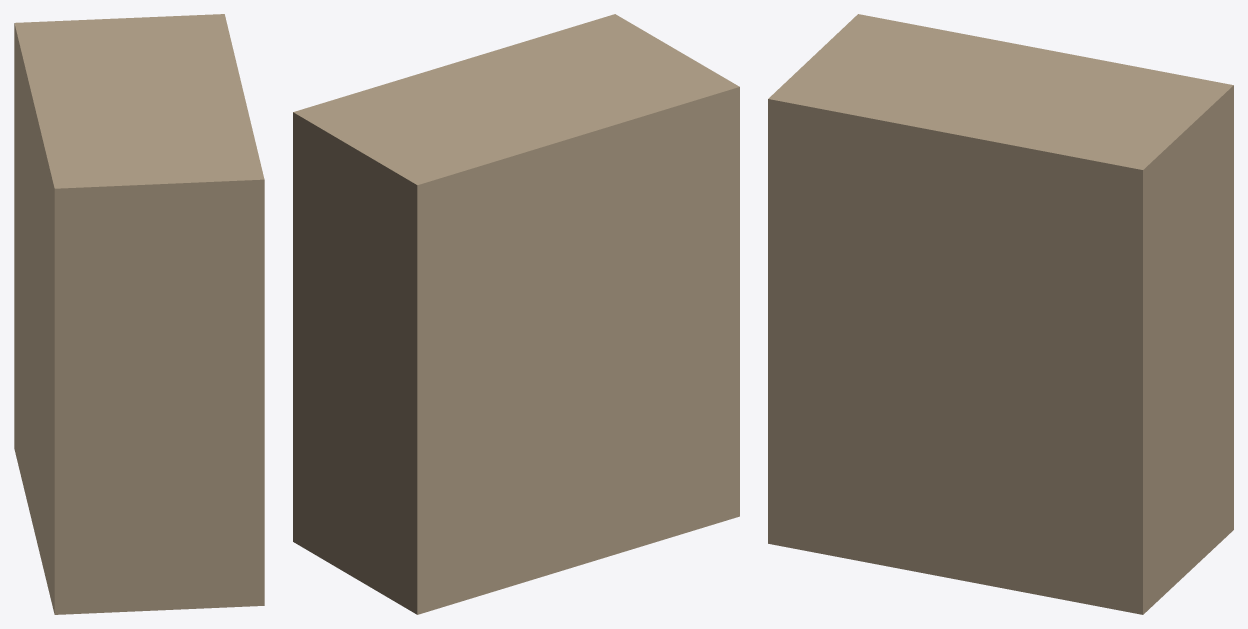
The model's file is bld_99519930.dae.
The picture shows the model from 3 angles, left to right: view 1: azimuth 30°, elevation 25°; view 2: azimuth 150°, elevation 25°; view 3: azimuth 270°, elevation 25°; orthographic projection. The views are drawn at different scales.
Parts seen in each view (by area): view 1: bld_99519930; view 2: bld_99519930; view 3: bld_99519930.
Boxes of the visible parts, left/top/right/bottom form: bld_99519930: left=14, top=14, right=264, bottom=614; bld_99519930: left=293, top=14, right=739, bottom=614; bld_99519930: left=768, top=14, right=1233, bottom=614.
Size of the model in its own units: 6.02 by 7.59 by 8.
